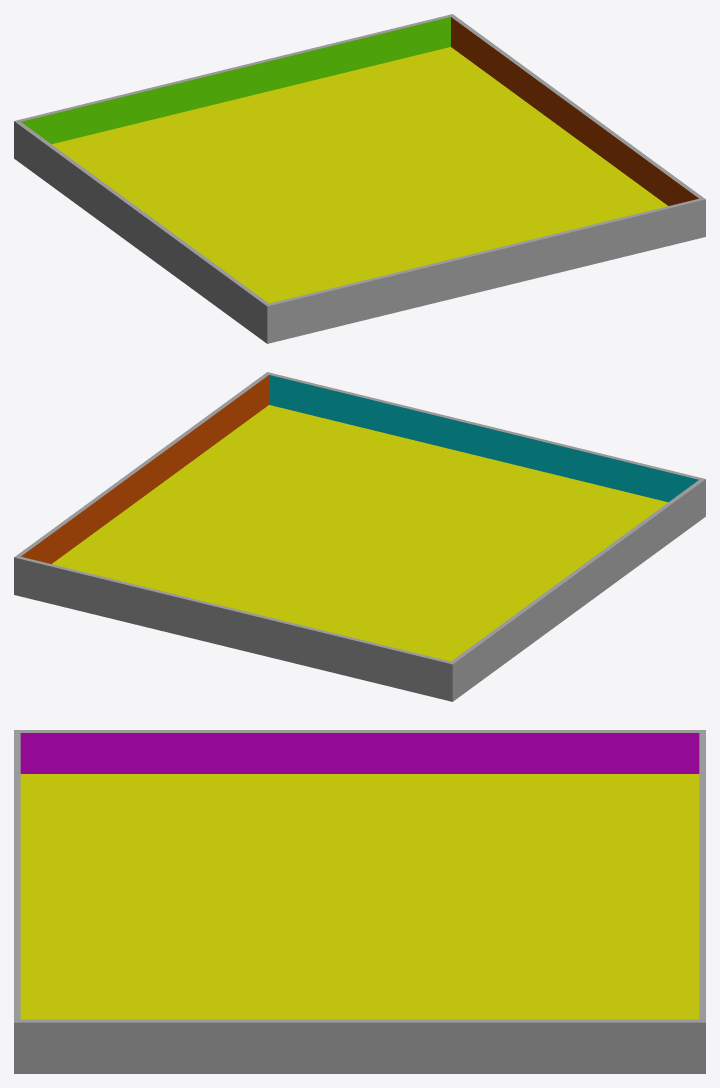
File: maze_04.fbx
3 views of the same model, one above another, from view 1: azimuth 30°, elevation 25°; view 2: azimuth 150°, elevation 25°; view 3: azimuth 270°, elevation 25° (orthographic). The views are drawn at different scales.
Parts seen in each view (by area): view 1: pCube5; view 2: pCube5; view 3: pCube5.
Part boxes in pixels (x1,y1,x2,y2): pCube5: [14, 14, 705, 343]; pCube5: [14, 372, 705, 701]; pCube5: [14, 730, 705, 1073].
Bounding box in the file's own units: 1530 × 125 × 1530.
